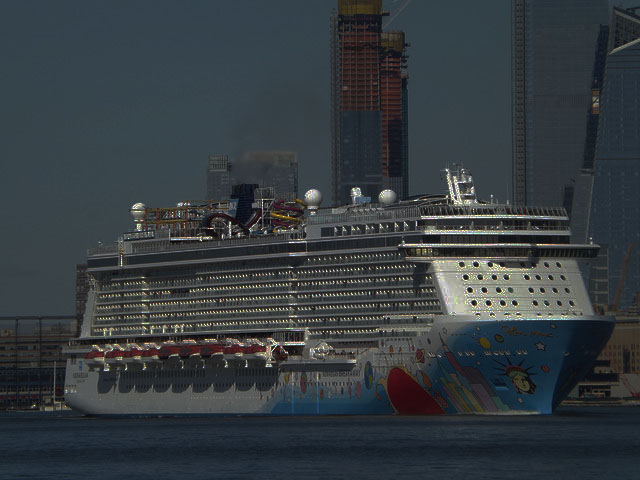cruise_ship: (63, 164, 615, 417)
